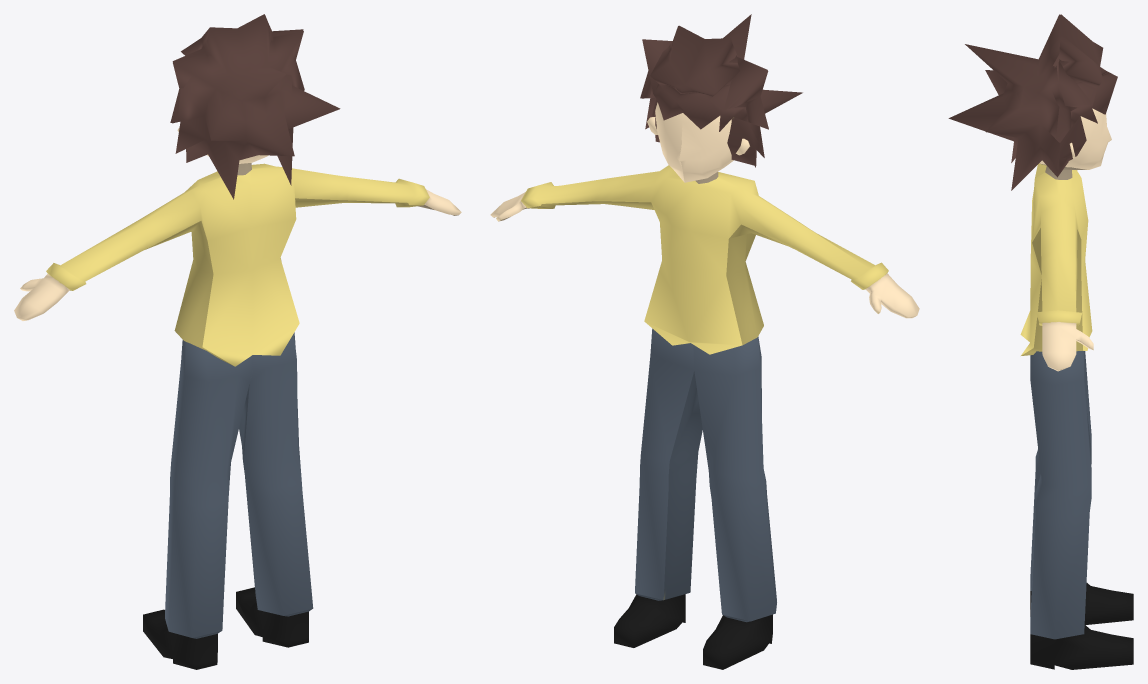
File: guy-mesh.glb
3 renders of one model, left to right at view 1: azimuth 30°, elevation 25°; view 2: azimuth 150°, elevation 25°; view 3: azimuth 270°, elevation 25°, orthographic. The views are drawn at different scales.
Parts seen in each view (by area): view 1: Torso, Head.001; view 2: Torso, Head.001, Head; view 3: Torso, Head.001, Head.
Part boxes in pixels (bbox=[...]): Torso: bbox=[14, 163, 461, 669]; Head.001: bbox=[170, 14, 340, 199]; Torso: bbox=[490, 165, 919, 669]; Head.001: bbox=[640, 14, 802, 167]; Head: bbox=[655, 102, 733, 182]; Torso: bbox=[1020, 163, 1133, 669]; Head.001: bbox=[948, 14, 1117, 190]; Head: bbox=[1039, 108, 1111, 169].
Size of the model in its own units: 8.21 by 11.07 by 3.05.
Materials: 1 (1 with a texture image).
